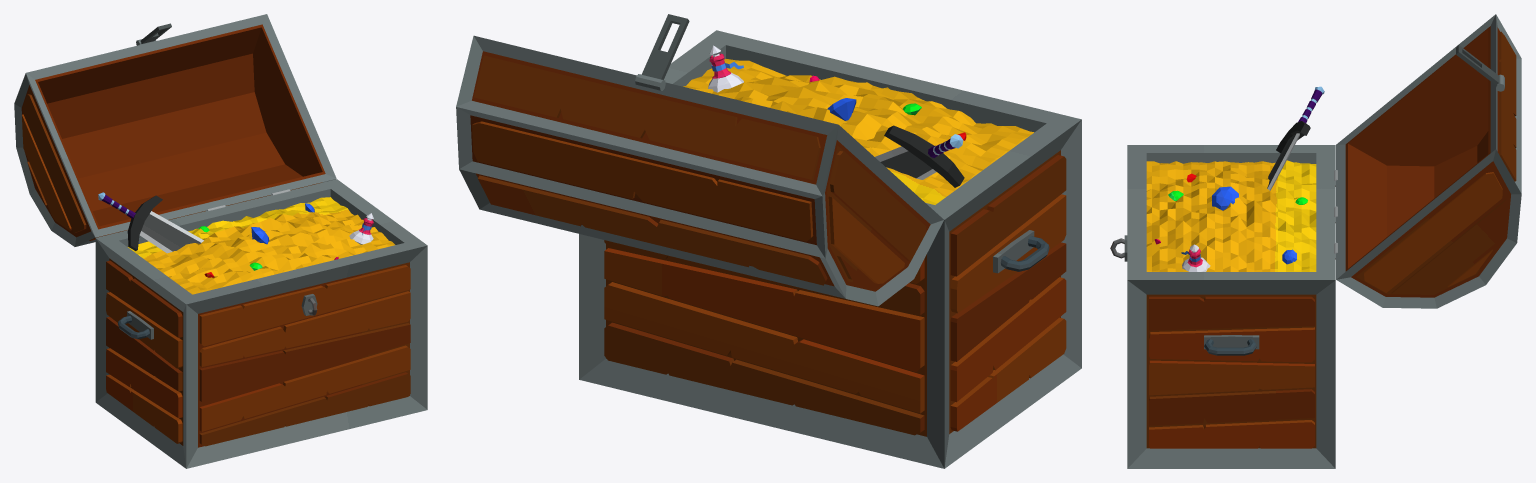
Rendered from cofre.glb.
3 views of the same model, side by side, from view 1: azimuth 30°, elevation 25°; view 2: azimuth 150°, elevation 25°; view 3: azimuth 270°, elevation 25° (orthographic). The views are drawn at different scales.
Parts seen in each view (by area): view 1: COFRE; view 2: COFRE; view 3: COFRE.
Boxes of the visible parts, <box> form: COFRE: <box>14,14,427,468</box>; COFRE: <box>456,14,1081,468</box>; COFRE: <box>1110,14,1521,468</box>.
Bounding box in the file's own units: 23.23 × 24.91 × 26.24.
1 material, 1 textured.
